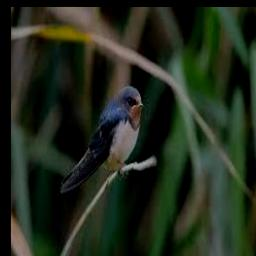Swallow: (57, 86, 142, 193)
